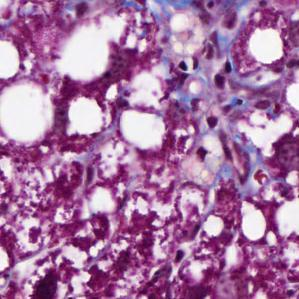inflammation: (173, 35, 241, 90)
